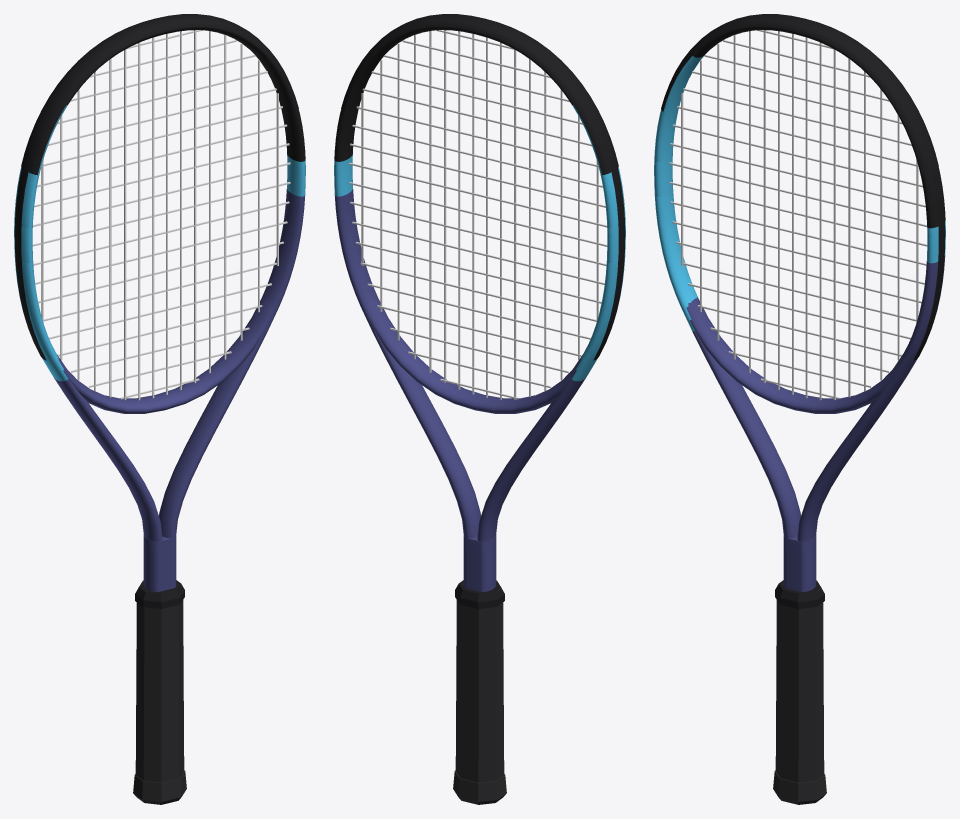
File: dunlop-fx-500-tour-2025.glb
3 views of the same model, side by side, from view 1: azimuth 30°, elevation 25°; view 2: azimuth 150°, elevation 25°; view 3: azimuth 330°, elevation 25° (orthographic).
Visible parts, largest first — view 1: frame, strings_mains, strings_crosses, grip, bumper, grommets, butt_cap, collar; view 2: frame, strings_mains, strings_crosses, grip, bumper, grommets, butt_cap, collar; view 3: frame, strings_mains, strings_crosses, grip, bumper, grommets, butt_cap, collar.
Part boxes in pixels (x1,y1,x2,y2): frame: (14,27,305,591); strings_mains: (41,30,278,400); strings_crosses: (32,30,290,399); grip: (135,600,184,782); bumper: (21,14,298,175); grommets: (14,168,46,360); butt_cap: (133,770,186,804); collar: (135,580,184,608); frame: (334,27,625,591); strings_mains: (361,30,598,399); strings_crosses: (348,30,607,399); grip: (455,600,504,782); bumper: (341,14,618,175); grommets: (593,168,625,360); butt_cap: (453,770,506,804); collar: (455,580,504,608); frame: (654,27,945,591); strings_mains: (681,30,918,400); strings_crosses: (669,30,927,399); grip: (775,600,824,782); bumper: (661,14,938,175); grommets: (913,168,945,360); butt_cap: (773,770,826,804); collar: (775,580,824,608).
Bounding box in the file's own units: 0.2644 × 0.6861 × 0.0377.
